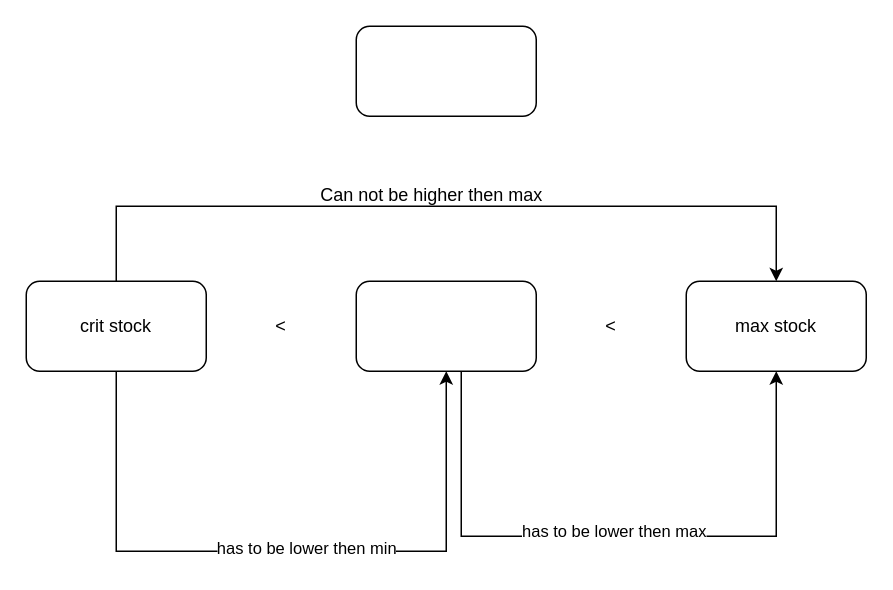
This 893x590 diagram has some shape labels left out. The shapes that lost their labels are listed below. From the top down, each one's centre as x and y in pixels, then its label:
At (445,70): "skaits".
At (445,325): "min stock".
